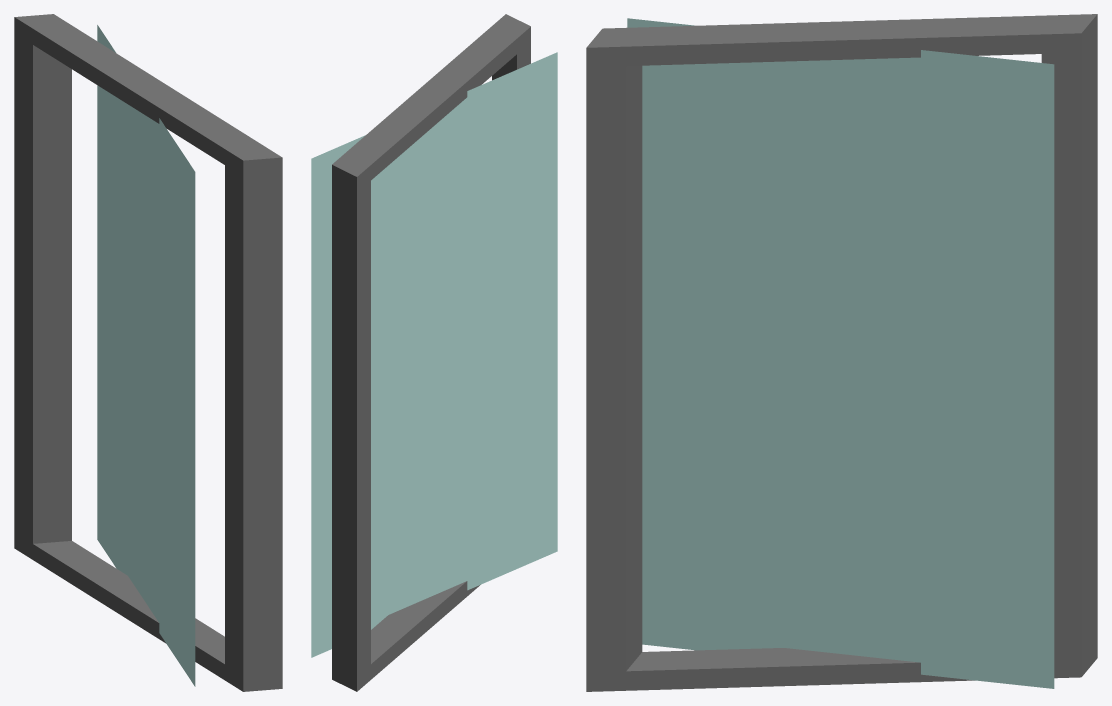
The model's file is ventana.fbx.
The picture shows the model from 3 angles, left to right: view 1: azimuth 30°, elevation 25°; view 2: azimuth 150°, elevation 25°; view 3: azimuth 270°, elevation 25°; orthographic projection. The views are drawn at different scales.
Parts seen in each view (by area): view 1: Plane.044, Plane.045; view 2: Plane.045, Plane.044; view 3: Plane.045, Plane.044.
Part boxes in pixels (left/top/right/bottom): Plane.044: left=14, top=14, right=282, bottom=691; Plane.045: left=97, top=25, right=195, bottom=686; Plane.045: left=311, top=52, right=557, bottom=657; Plane.044: left=332, top=14, right=530, bottom=691; Plane.045: left=627, top=18, right=1054, bottom=688; Plane.044: left=586, top=14, right=1097, bottom=691.
Size of the model in its own units: 1.24 by 8.1 by 5.82.
